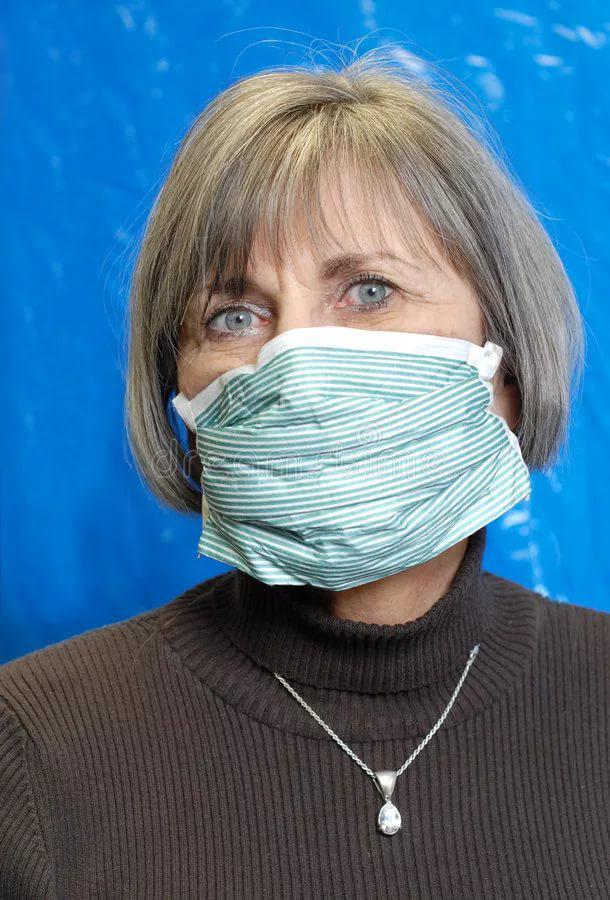mask: (175, 176, 503, 586)
